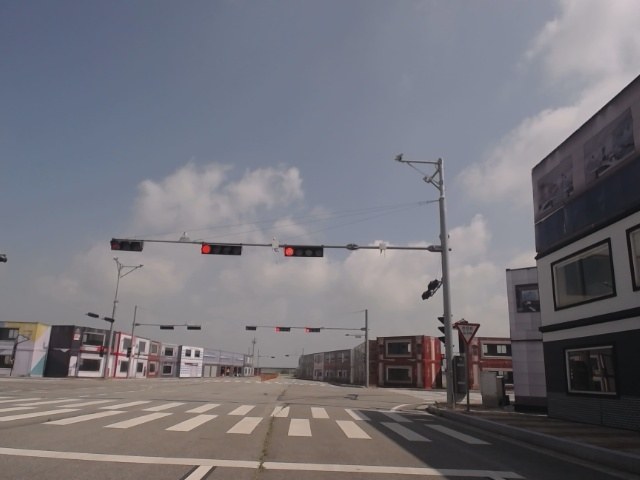red_4: (199, 241, 241, 255), (283, 245, 324, 257)
